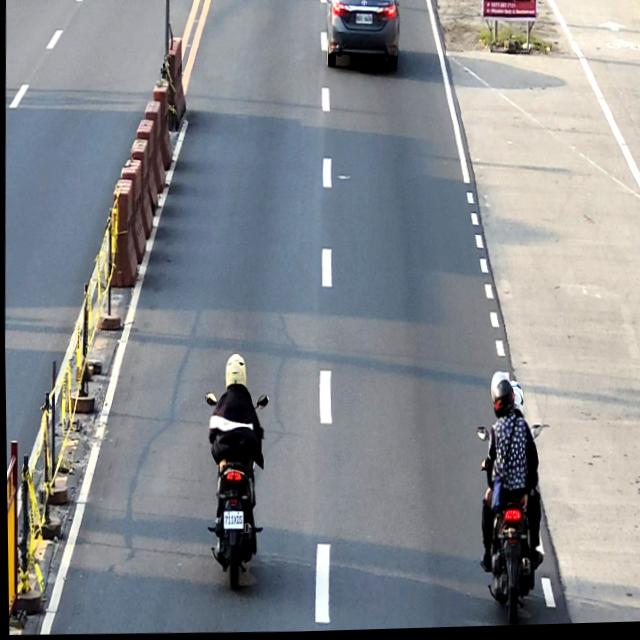Car: (324, 0, 403, 68)
License-Plate: (220, 514, 242, 531), (355, 15, 372, 26)
Motorcycle: (471, 426, 541, 629), (200, 390, 269, 595)
